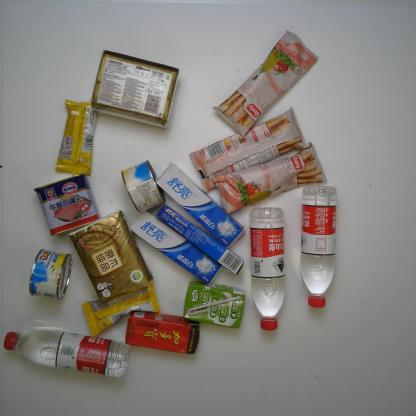Canned Food: (32, 173, 101, 236), (28, 248, 73, 300), (121, 160, 166, 212)
Chocolate: (80, 280, 161, 336), (53, 98, 98, 176)
Dessert: (212, 30, 319, 137), (190, 107, 308, 193), (211, 141, 328, 216)
Drink: (3, 328, 128, 379), (299, 184, 339, 308), (248, 207, 287, 331), (124, 311, 201, 355)
Milk: (183, 281, 247, 330)
Personal Hygiene: (156, 161, 244, 247), (129, 209, 222, 287), (159, 205, 245, 274)
Tissue: (68, 210, 154, 303), (90, 48, 180, 127)
